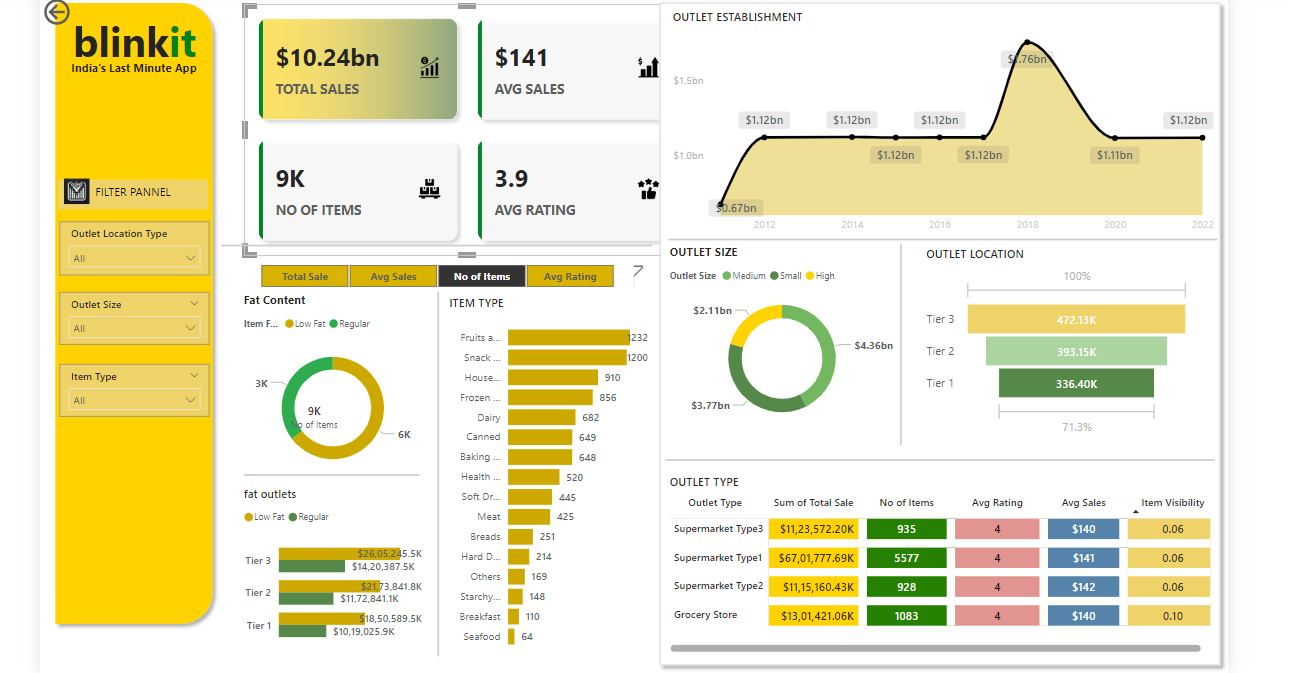

The dashboard page shown, as its layout file describes it:
{"tool":"powerbi","page":{"name":"Page 1","canvas":[1400,800],"ordinal":0},"visuals":[{"type":"shape","box":[9.6,0,203.8,750],"z":0},{"type":"textbox","box":[23.1,15.4,176.9,86.5],"z":1000},{"type":"textbox","box":[9.6,71.2,203.8,61.5],"z":2000},{"type":"cardVisual","fields":{"Data":["Sum(BlinkIT Grocery Data.Total Sale)","BlinkIT Grocery Data.Avg Sales","BlinkIT Grocery Data.No of Items","BlinkIT Grocery Data.Avg Rating"]},"box":[213.5,0,526.9,296.2],"z":3000},{"type":"shape","box":[721.1,0,678.7,798.8],"z":4000},{"type":"donutChart","title":"Fat Content","fields":{"Y":["BlinkIT Grocery Data.No of Items"],"Category":["BlinkIT Grocery Data.Item Fat Content"]},"box":[235.1,349.9,219.2,228],"z":5000},{"type":"slicer","fields":{"Values":["Metrics 2.Metrics"]},"box":[235.1,311.1,464.8,38.9],"z":6000},{"type":"cardVisual","fields":{"Data":["BlinkIT Grocery Data.No of Items"]},"box":[268.6,447.1,109.6,99],"z":7000},{"type":"clusteredBarChart","title":"fat outlets","fields":{"Y":["BlinkIT Grocery Data.No of Items"],"Category":["BlinkIT Grocery Data.Outlet Location Type"],"Series":["BlinkIT Grocery Data.Item Fat Content"]},"box":[234.4,578.7,219.8,200.2],"z":8000},{"type":"shape","box":[240.4,549.6,206.8,31.8],"z":9000},{"type":"shape","box":[438.3,349.9,61.9,429.5],"z":10000},{"type":"barChart","title":"ITEM TYPE","fields":{"Y":["BlinkIT Grocery Data.No of Items"],"Category":["BlinkIT Grocery Data.Item Type"]},"box":[477.2,353.5,243.9,425.9],"z":11000},{"type":"lineChart","title":" OUTLET ESTABLISHMENT","fields":{"Y":["Sum(BlinkIT Grocery Data.Total Sale)"],"Category":["BlinkIT Grocery Data.Outlet Establishment Year"]},"box":[740.5,15.9,646.8,272.2],"z":12000},{"type":"shape","box":[740.5,268.6,646.8,38.9],"z":13000},{"type":"donutChart","title":"OUTLET SIZE","fields":{"Y":["Sum(BlinkIT Grocery Data.Total Sale)"],"Category":["BlinkIT Grocery Data.Outlet Size"]},"box":[737,293.4,273.9,224.5],"z":14000},{"type":"shape","box":[989.7,293.4,49.5,236.8],"z":15000},{"type":"funnel","title":"OUTLET LOCATION","fields":{"Category":["BlinkIT Grocery Data.Outlet Location Type"],"Y":["Sum(BlinkIT Grocery Data.Sales)"]},"box":[1039.2,295.1,319.9,229.8],"z":16000},{"type":"actionButton","box":[0,0,100,40],"z":17000},{"type":"pivotTable","title":"OUTLET TYPE","fields":{"Rows":["BlinkIT Grocery Data.Outlet Type"],"Values":["Sum(BlinkIT Grocery Data.Total Sale)","BlinkIT Grocery Data.No of Items","BlinkIT Grocery Data.Avg Rating","BlinkIT Grocery Data.Avg Sales","Avg(BlinkIT Grocery Data.Item Visibility)"]},"box":[737,563.8,646.8,215.6],"z":18000},{"type":"shape","box":[737,528.4,646.8,38.9],"z":19000},{"type":"shape","box":[213.8,275.7,507.2,38.9],"z":20000},{"type":"slicer","fields":{"Values":["BlinkIT Grocery Data.Outlet Location Type"]},"box":[23,266.9,176.7,63.6],"z":20001},{"type":"slicer","fields":{"Values":["BlinkIT Grocery Data.Outlet Size"]},"box":[23,349.9,176.7,61.9],"z":20002},{"type":"slicer","fields":{"Values":["BlinkIT Grocery Data.Item Type"]},"box":[23,434.8,176.7,61.9],"z":20003},{"type":"textbox","box":[21.2,217.4,176.7,35.3],"z":20004},{"type":"image","box":[23,210.3,40.6,42.4],"z":20005}]}

Visuals, with their boxes on the page's 1400x800 design canvas (x1, y1, x2, y2). These are canvas units, not pixel positions in the 1289x673 screenshot, which may show the page scaled, cropped or inside an application window:
shape: pyautogui.locateOnScreen(10, 0, 213, 750)
textbox: pyautogui.locateOnScreen(23, 15, 200, 102)
textbox: pyautogui.locateOnScreen(10, 71, 213, 133)
cardVisual - Sum(BlinkIT Grocery Data.Total Sale) x BlinkIT Grocery Data.Avg Sales: pyautogui.locateOnScreen(214, 0, 740, 296)
shape: pyautogui.locateOnScreen(721, 0, 1400, 799)
"Fat Content" donutChart: pyautogui.locateOnScreen(235, 350, 454, 578)
slicer - Metrics 2.Metrics: pyautogui.locateOnScreen(235, 311, 700, 350)
cardVisual - BlinkIT Grocery Data.No of Items: pyautogui.locateOnScreen(269, 447, 378, 546)
"fat outlets" clusteredBarChart: pyautogui.locateOnScreen(234, 579, 454, 779)
shape: pyautogui.locateOnScreen(240, 550, 447, 581)
shape: pyautogui.locateOnScreen(438, 350, 500, 779)
"ITEM TYPE" barChart: pyautogui.locateOnScreen(477, 354, 721, 779)
" OUTLET ESTABLISHMENT" lineChart: pyautogui.locateOnScreen(740, 16, 1387, 288)
shape: pyautogui.locateOnScreen(740, 269, 1387, 308)
"OUTLET SIZE" donutChart: pyautogui.locateOnScreen(737, 293, 1011, 518)
shape: pyautogui.locateOnScreen(990, 293, 1039, 530)
"OUTLET LOCATION" funnel: pyautogui.locateOnScreen(1039, 295, 1359, 525)
actionButton: pyautogui.locateOnScreen(0, 0, 100, 40)
"OUTLET TYPE" pivotTable: pyautogui.locateOnScreen(737, 564, 1384, 779)
shape: pyautogui.locateOnScreen(737, 528, 1384, 567)
shape: pyautogui.locateOnScreen(214, 276, 721, 315)
slicer - BlinkIT Grocery Data.Outlet Location Type: pyautogui.locateOnScreen(23, 267, 200, 330)
slicer - BlinkIT Grocery Data.Outlet Size: pyautogui.locateOnScreen(23, 350, 200, 412)
slicer - BlinkIT Grocery Data.Item Type: pyautogui.locateOnScreen(23, 435, 200, 497)
textbox: pyautogui.locateOnScreen(21, 217, 198, 253)
image: pyautogui.locateOnScreen(23, 210, 64, 253)
